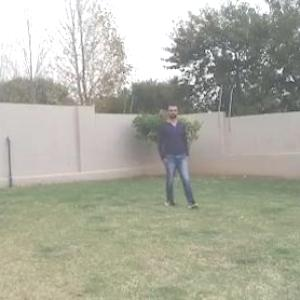follow: (160, 104, 186, 204)
